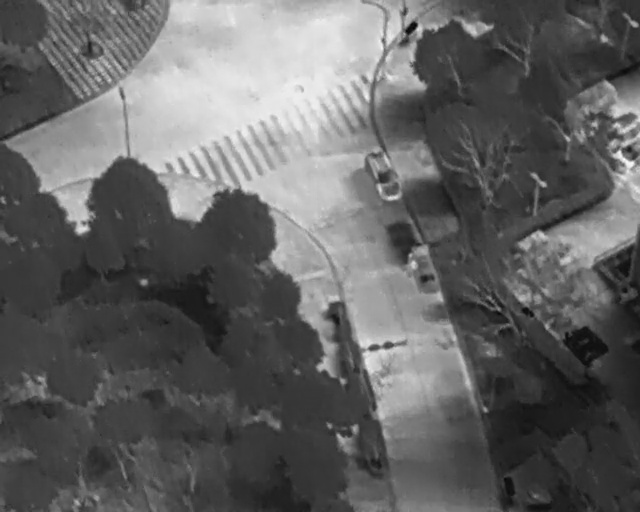Car: (361, 146, 409, 209), (406, 242, 444, 296)
